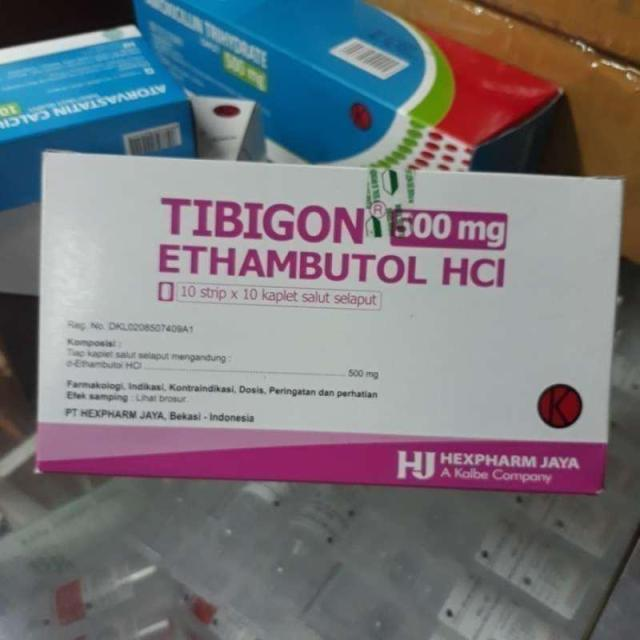drug-name: (160, 196, 367, 247)
